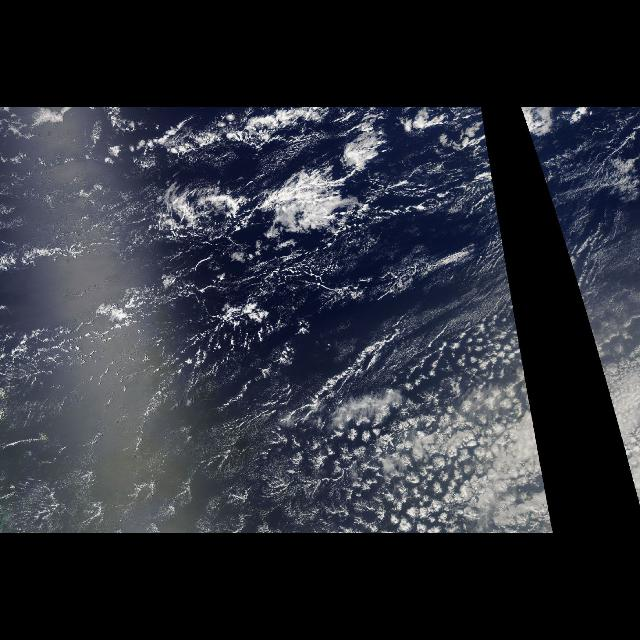Flower: (360, 342, 552, 524), (594, 342, 636, 500)
Sugar: (0, 348, 338, 534), (250, 140, 516, 318), (343, 375, 554, 533), (530, 111, 638, 319), (0, 168, 164, 252), (602, 375, 634, 489)
